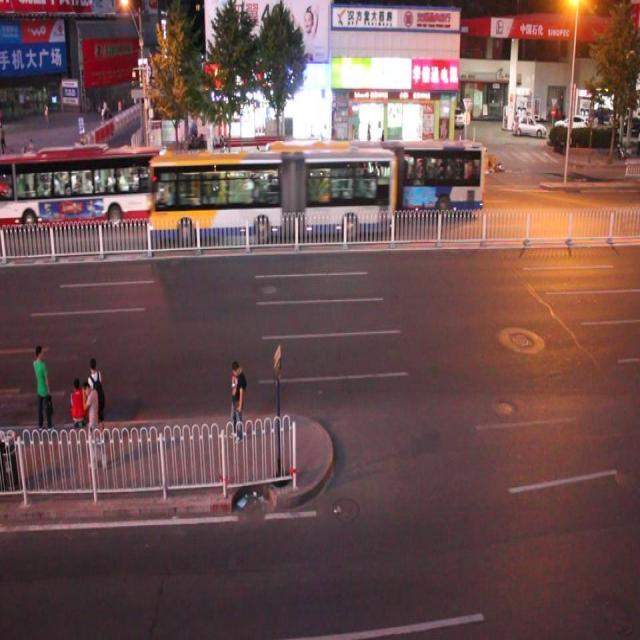car: (74, 172, 129, 216), (410, 162, 460, 208), (279, 157, 330, 195), (189, 158, 230, 198), (20, 173, 63, 209), (1, 166, 12, 204)
van: (148, 146, 395, 240), (262, 138, 484, 216), (0, 146, 166, 233)
